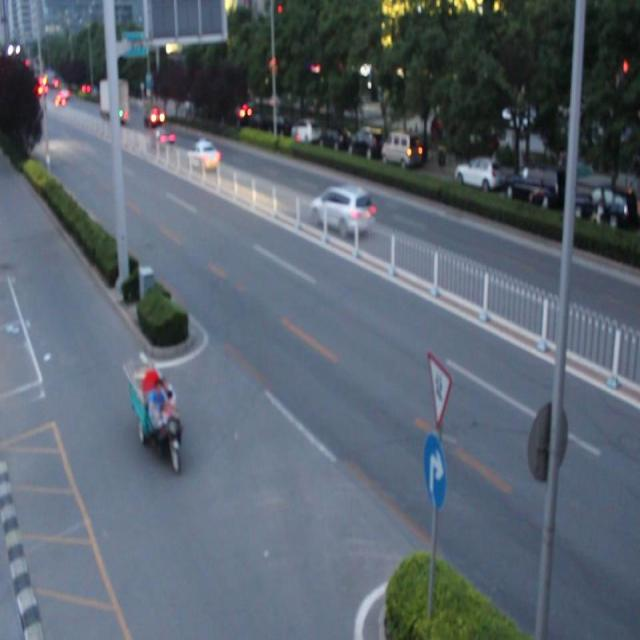car: (310, 181, 374, 237)
